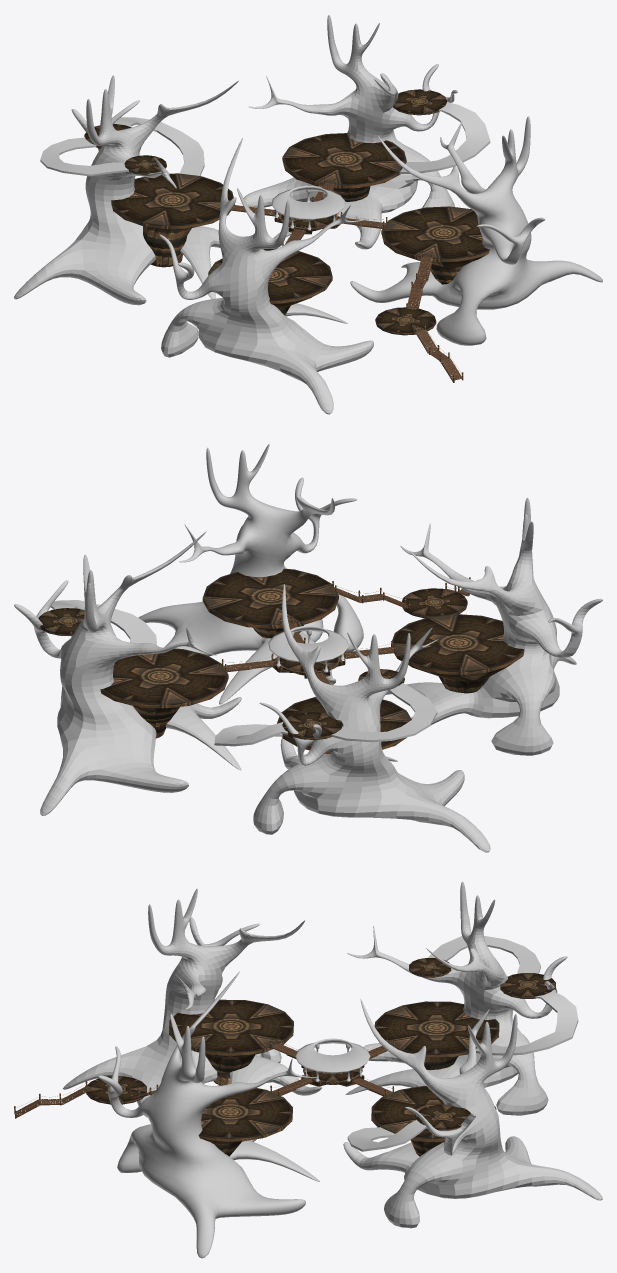
File: SatyrVillage01.fbx
3 renders of one model, top to bottom at view 1: azimuth 30°, elevation 25°; view 2: azimuth 150°, elevation 25°; view 3: azimuth 270°, elevation 25°, orthographic. The views are drawn at different scales.
Visible parts, largest first — view 1: Cube_3_8, Cube_2_8, Cube_4_8, Cube, Платформа1, боковая_платформа_2, боковая_платформа_3, боковая_платформа_4, Лестница_1, крыша, Лестница.001, Лестница (+6 smaller); view 2: Cube_4_8, Cube, Cube_3_8, Cube_2_8, боковая_платформа_4, боковая_платформа_2, боковая_платформа_3, Лестница.001, Платформа1, Платформа_1_2_2.001, крыша, Лестница (+5 smaller); view 3: Cube_2_8, Cube, Cube_3_8, Cube_4_8, боковая_платформа_4, Платформа1, боковая_платформа_3, боковая_платформа_2, Лестница, крыша, Лестница.001, Лестница_1 (+6 smaller).
Boxes of the visible parts, box(x1,y1,x2,y2) form: Cube_3_8: box(159, 138, 373, 414); Cube_2_8: box(350, 116, 602, 345); Cube_4_8: box(14, 75, 238, 305); Cube: box(243, 15, 457, 249); Платформа1: box(111, 173, 234, 267); боковая_платформа_2: box(282, 133, 406, 201); боковая_платформа_3: box(381, 206, 489, 284); боковая_платформа_4: box(208, 248, 332, 315); Лестница_1: box(400, 101, 490, 173); крыша: box(271, 185, 345, 219); Лестница.001: box(40, 137, 128, 176); Лестница: box(114, 117, 204, 175); Cube_4_8: box(253, 584, 490, 852); Cube: box(14, 531, 241, 815); Cube_3_8: box(386, 497, 602, 755); Cube_2_8: box(138, 443, 363, 704); боковая_платформа_4: box(391, 614, 524, 693); боковая_платформа_2: box(100, 648, 228, 738); боковая_платформа_3: box(202, 568, 338, 638); Лестница.001: box(331, 683, 437, 742); Платформа1: box(277, 696, 411, 754); Платформа_1_2_2.001: box(402, 588, 467, 618); крыша: box(268, 625, 348, 662); Лестница: box(214, 722, 287, 746); Cube_2_8: box(98, 971, 319, 1258); Cube: box(343, 999, 602, 1228); Cube_3_8: box(63, 888, 321, 1117); Cube_4_8: box(345, 881, 567, 1115); боковая_платформа_4: box(169, 999, 293, 1085); Платформа1: box(374, 1001, 499, 1070); боковая_платформа_3: box(198, 1085, 292, 1156); боковая_платформа_2: box(371, 1086, 496, 1156); Лестница: box(475, 989, 578, 1055); крыша: box(295, 1038, 370, 1073); Лестница.001: box(428, 936, 540, 973); Лестница_1: box(347, 1119, 427, 1151).
Size of what is drawn, in the model's own units: 46363 by 17797 by 50538.
